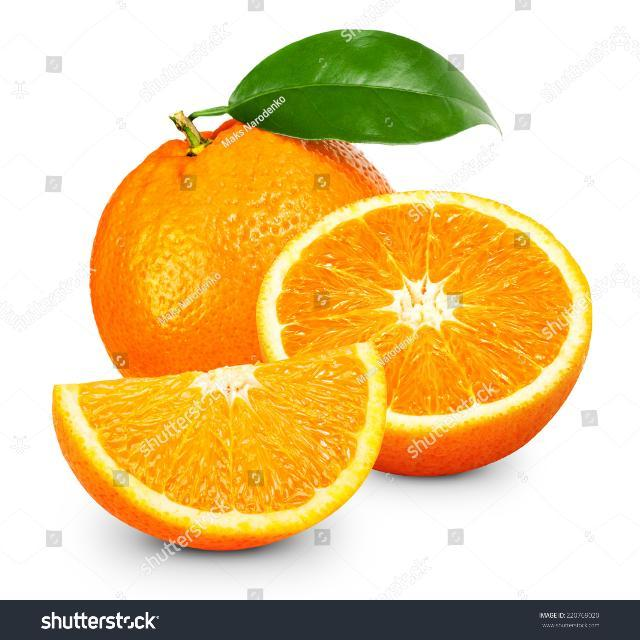Orange: (254, 188, 593, 477), (88, 114, 394, 378), (51, 339, 388, 551)
